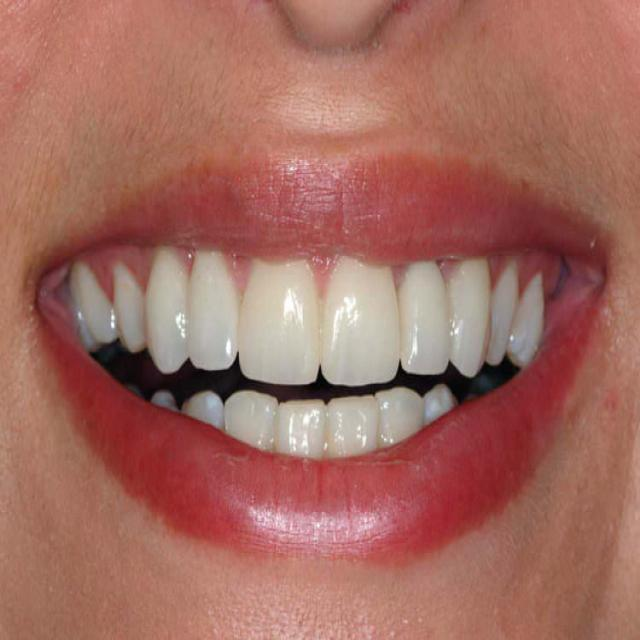tooth: (244, 256, 324, 390), (323, 261, 397, 387), (184, 252, 241, 376), (397, 265, 450, 379), (142, 251, 190, 374), (448, 257, 490, 380), (71, 258, 120, 358), (326, 396, 381, 460), (508, 272, 544, 368), (224, 394, 276, 453), (112, 262, 145, 354), (493, 265, 521, 372), (276, 404, 326, 460), (378, 389, 425, 448), (180, 388, 224, 425), (422, 386, 462, 414), (146, 390, 176, 412)
